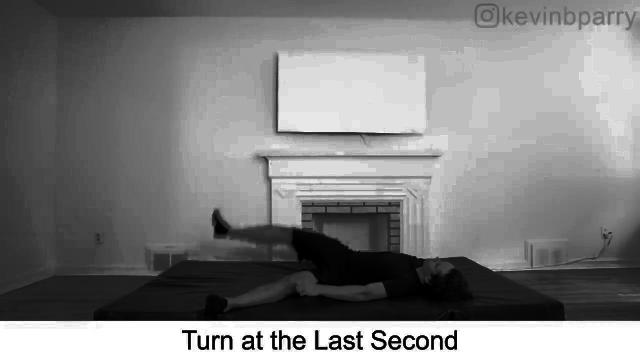jatuh: (188, 193, 476, 321)
